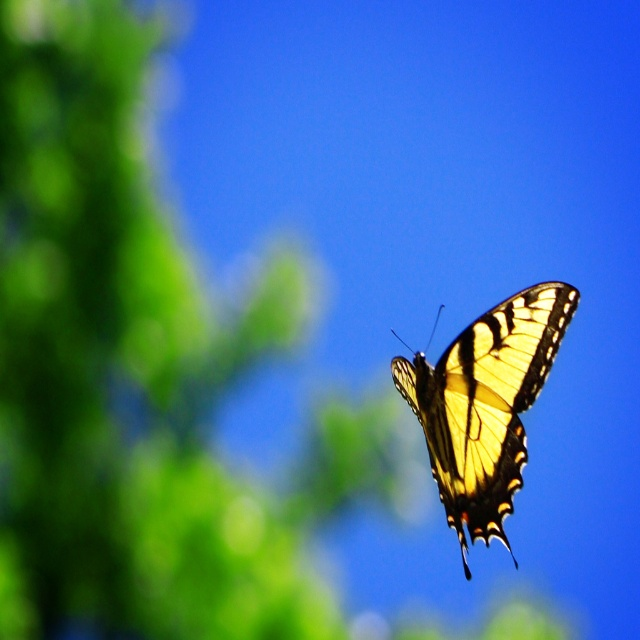Butterfly: (385, 279, 573, 578)
